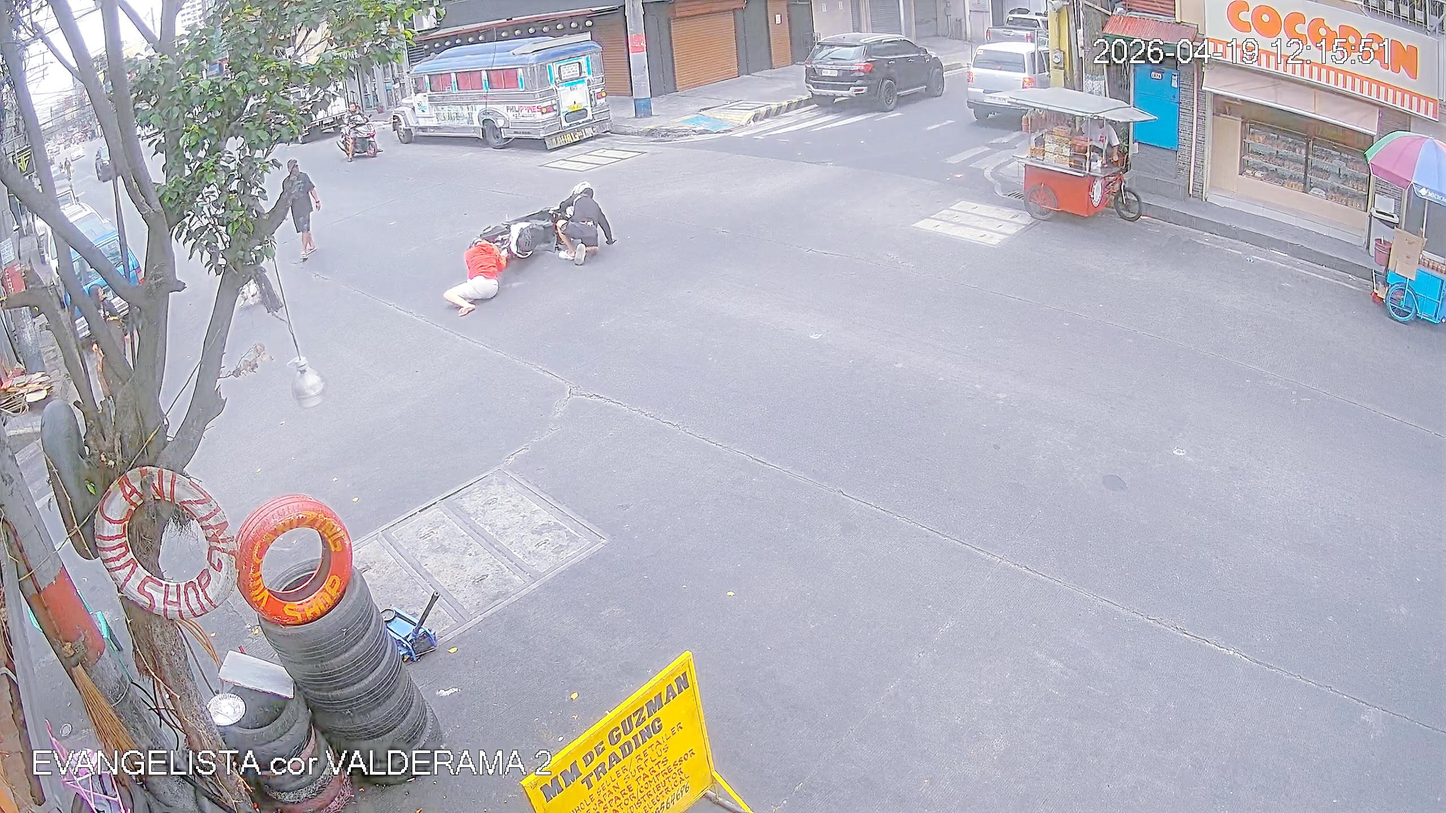Motor: (469, 190, 603, 266)
